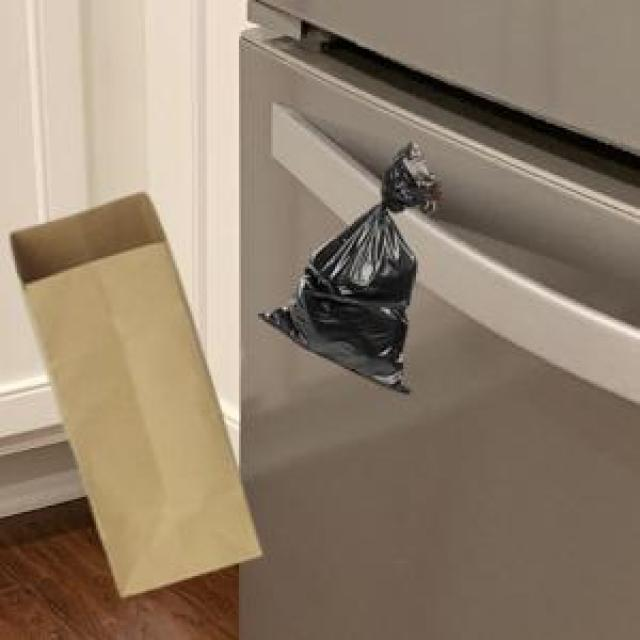miscellaneous trash: (256, 139, 437, 388)
paper: (6, 188, 258, 593)
